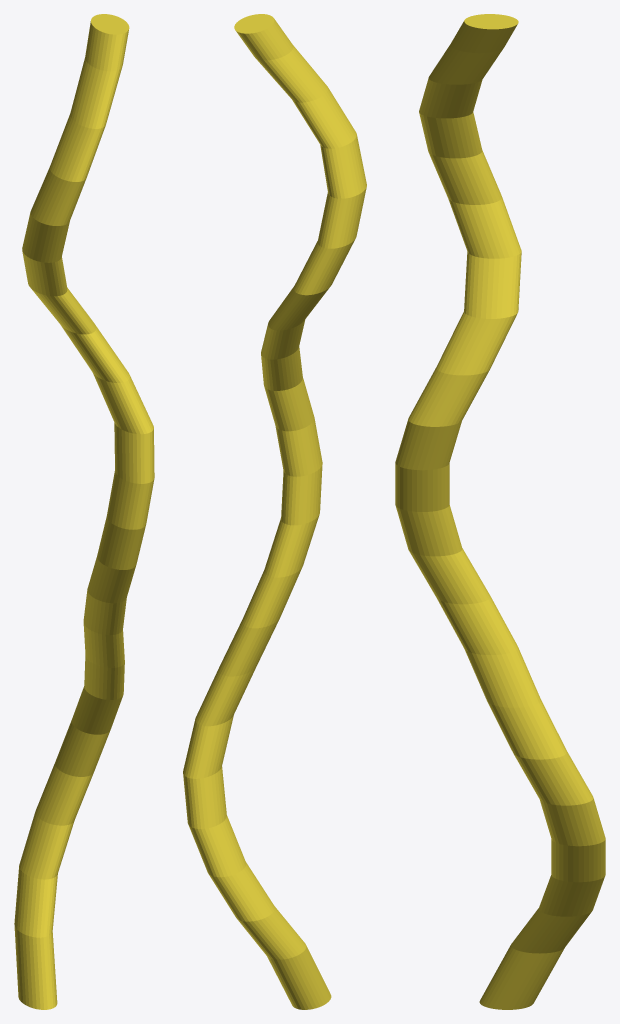
Rendered from grating cheese_particles3.fbx.
3 renders of one model, left to right at view 1: azimuth 30°, elevation 25°; view 2: azimuth 150°, elevation 25°; view 3: azimuth 270°, elevation 25°, orthographic. The views are drawn at different scales.
Visible parts, largest first — view 1: Cylinder; view 2: Cylinder; view 3: Cylinder.
Boxes of the visible parts, x1,y1,x2,y2 form: Cylinder: (14, 14, 154, 1009); Cylinder: (183, 14, 366, 1009); Cylinder: (395, 14, 605, 1009).
Bounding box in the file's own units: 27.93 × 208 × 39.14.
